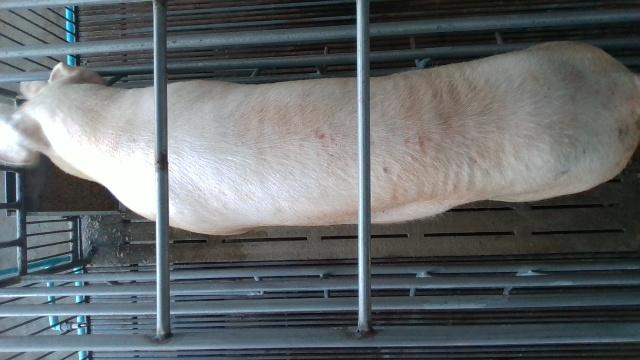sow-stand-feed: (0, 41, 640, 234)
